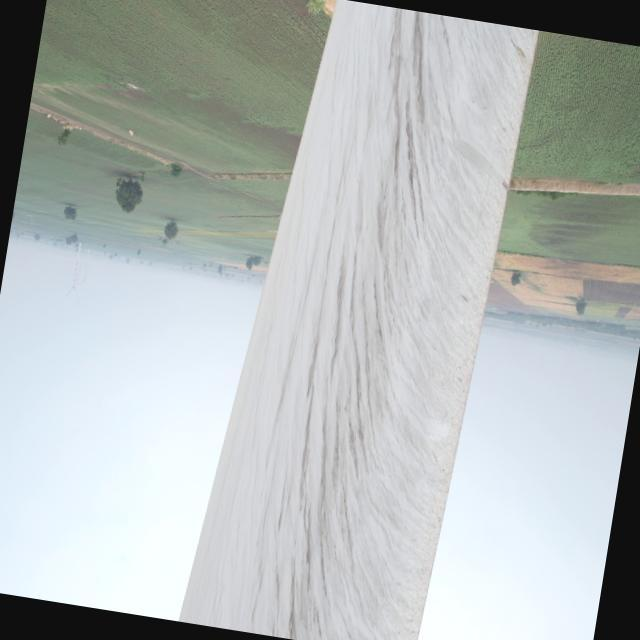Dirt: (176, 4, 546, 640)
